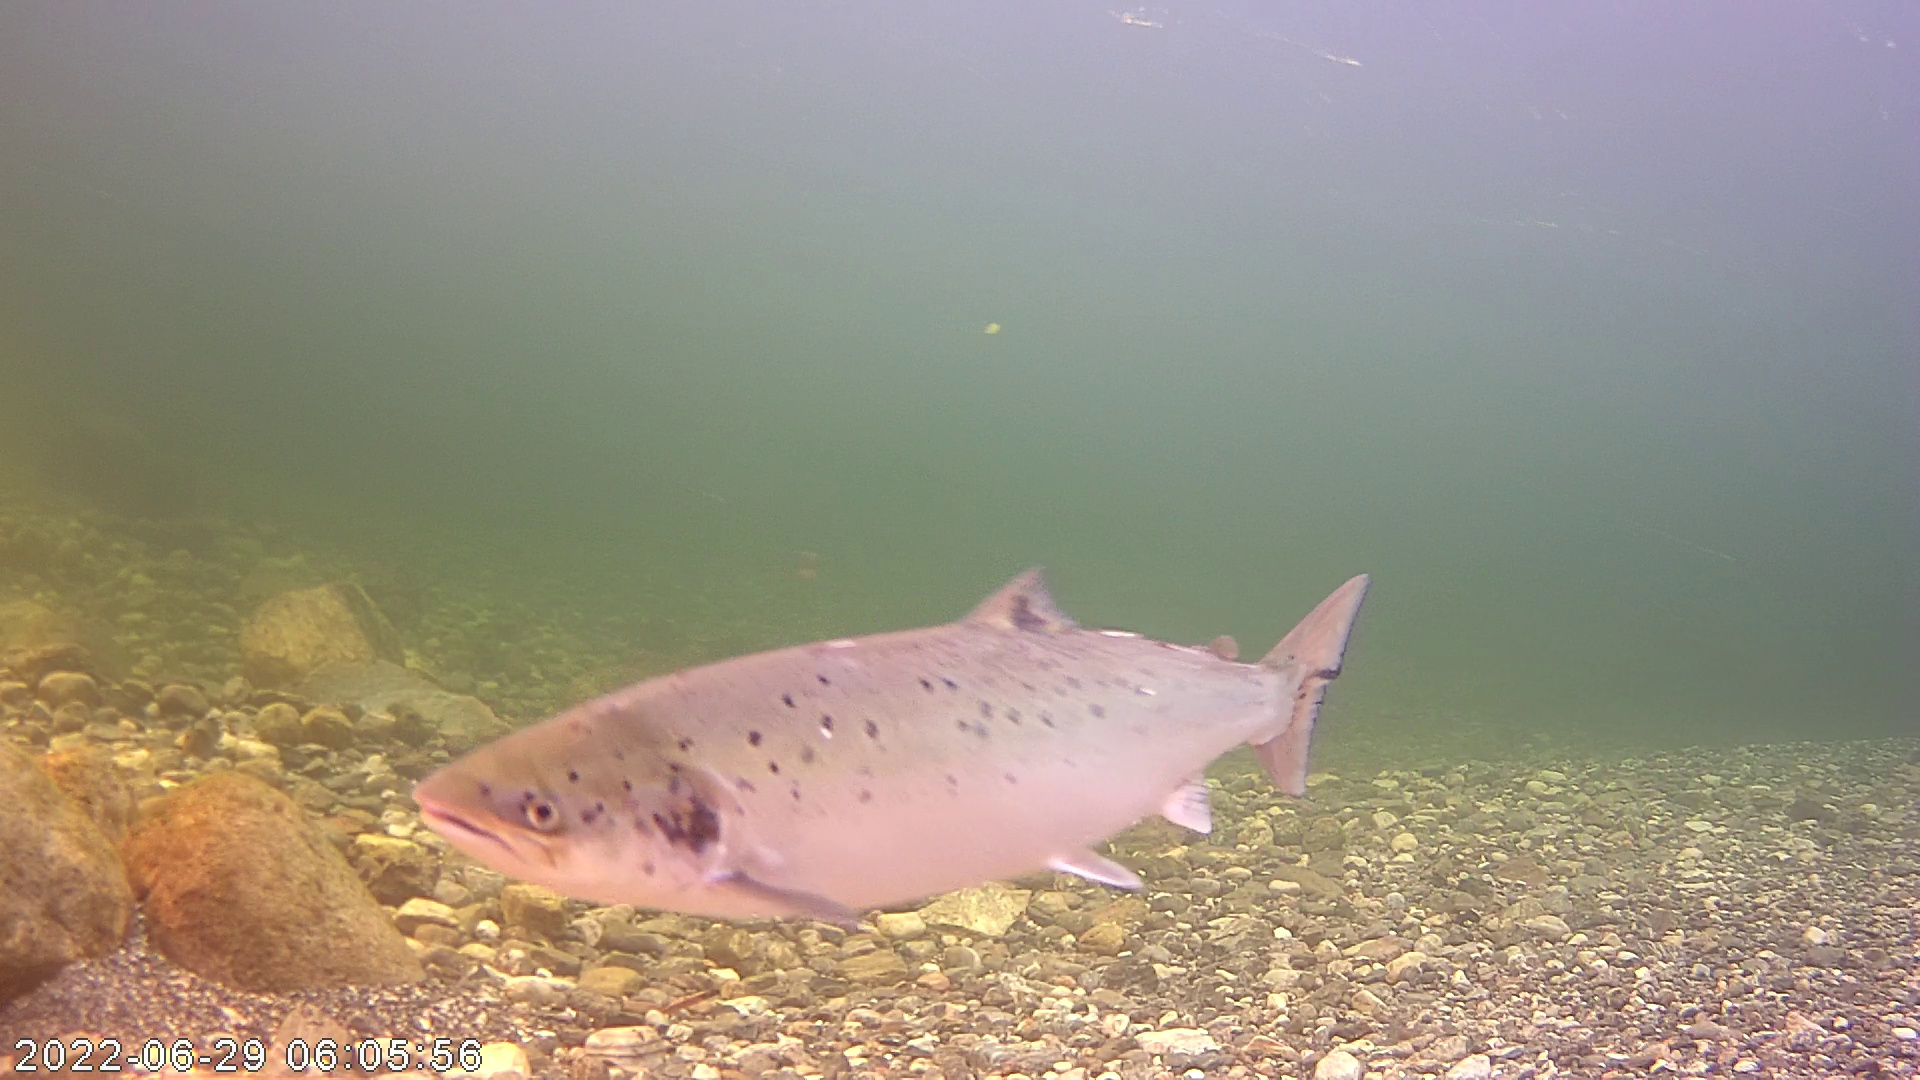salmon: (430, 493, 1361, 939)
